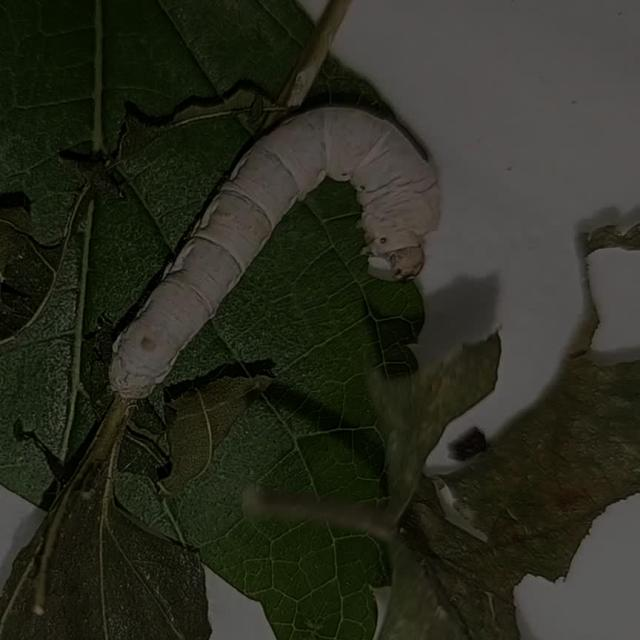Healthy: (102, 98, 450, 408)
